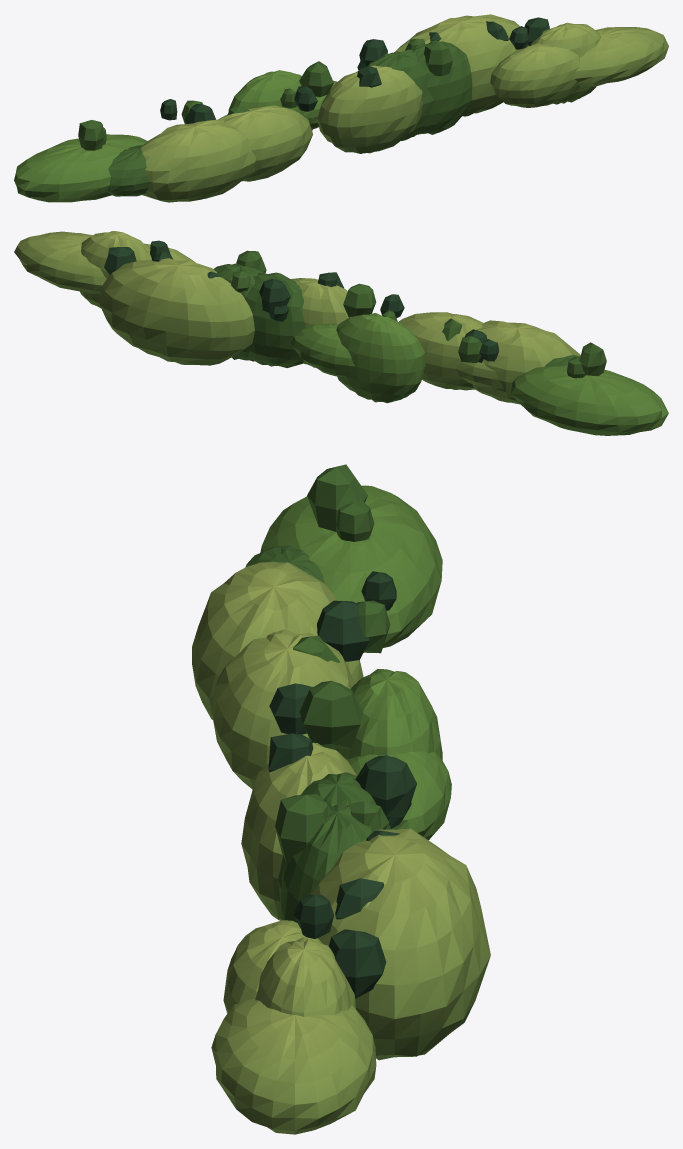
File: hills.glb
The picture shows the model from 3 angles, top to bottom: view 1: azimuth 30°, elevation 25°; view 2: azimuth 150°, elevation 25°; view 3: azimuth 270°, elevation 25°; orthographic projection. The views are drawn at different scales.
Parts seen in each view (by area): view 1: hills; view 2: hills; view 3: hills.
Boxes of the visible parts, x1=… form: hills: x1=14, y1=14, x2=668, y2=202; hills: x1=14, y1=231, x2=668, y2=435; hills: x1=192, y1=464, x2=490, y2=1134.
Bounding box in the file's own units: 111 × 16.56 × 22.66.
